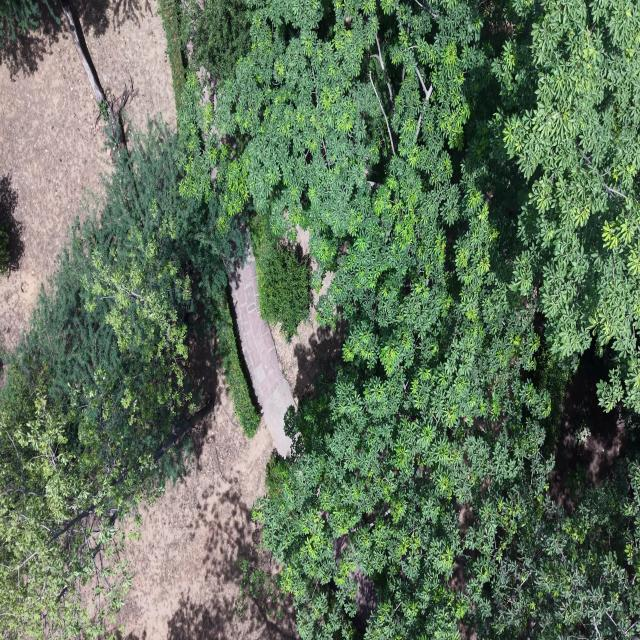DRY_AREA: (119, 254, 343, 639), (119, 251, 297, 639), (169, 248, 343, 639), (109, 351, 298, 639), (117, 358, 298, 639), (117, 383, 297, 639), (119, 384, 296, 639), (119, 383, 295, 639), (126, 407, 295, 639), (0, 21, 110, 348), (0, 24, 111, 348), (0, 31, 109, 347), (219, 250, 345, 506), (231, 251, 344, 481), (230, 248, 345, 456), (230, 247, 343, 456), (230, 248, 343, 456), (229, 244, 295, 457), (549, 350, 628, 513), (549, 352, 626, 512), (61, 0, 137, 149), (270, 272, 346, 401), (271, 273, 345, 402), (231, 248, 282, 404), (271, 307, 345, 402), (0, 3, 68, 75)
PATHWAYS: (231, 249, 294, 456)
VEGETATION_TREE: (0, 0, 639, 639), (218, 2, 639, 638), (218, 3, 549, 638), (0, 4, 259, 637), (0, 125, 242, 637), (494, 0, 639, 412), (0, 0, 137, 149), (59, 0, 137, 151), (176, 70, 246, 237), (159, 0, 250, 112), (250, 216, 312, 340), (217, 296, 260, 437), (182, 0, 250, 85), (257, 242, 312, 340), (235, 543, 284, 619), (158, 0, 186, 112), (0, 175, 23, 276), (0, 0, 51, 45), (0, 224, 10, 275)
